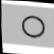no answer: (17, 12, 54, 44)
